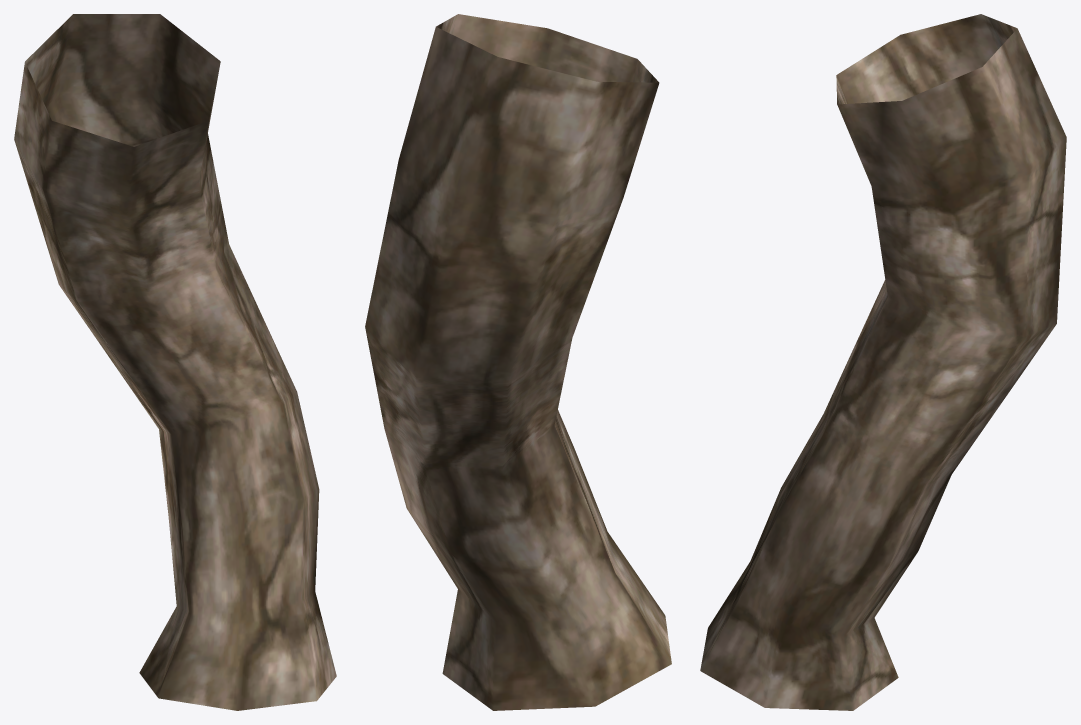
File: EKH_JAIL_PS_JA_PILLAR9928276.fbx
The picture shows the model from 3 angles, left to right: view 1: azimuth 30°, elevation 25°; view 2: azimuth 150°, elevation 25°; view 3: azimuth 270°, elevation 25°; orthographic projection. The views are drawn at different scales.
Parts seen in each view (by area): view 1: EKH_JAIL_PS_JA_PILLAR9928276; view 2: EKH_JAIL_PS_JA_PILLAR9928276; view 3: EKH_JAIL_PS_JA_PILLAR9928276.
Boxes of the visible parts, <box> form: EKH_JAIL_PS_JA_PILLAR9928276: <box>14,14,336,710</box>; EKH_JAIL_PS_JA_PILLAR9928276: <box>365,14,671,710</box>; EKH_JAIL_PS_JA_PILLAR9928276: <box>700,14,1066,710</box>.
Size of the model in its own units: 18460 by 46961 by 25181.
Materials: 1 (1 with a texture image).
